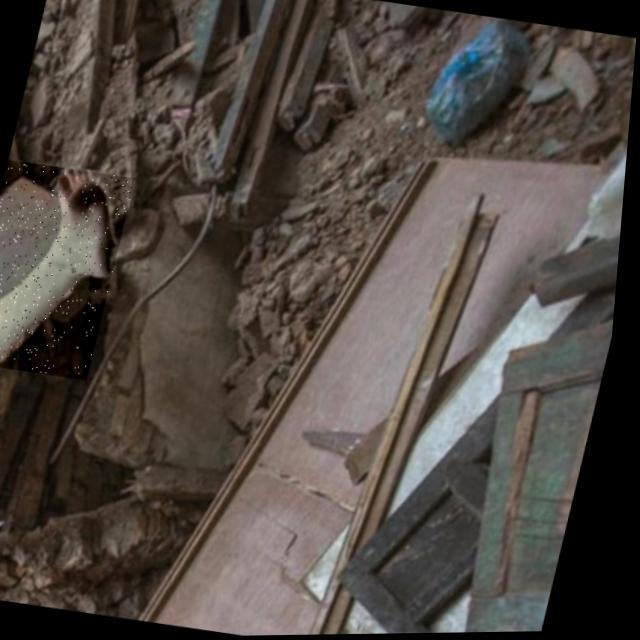Person in Rubble: (0, 157, 139, 381)
